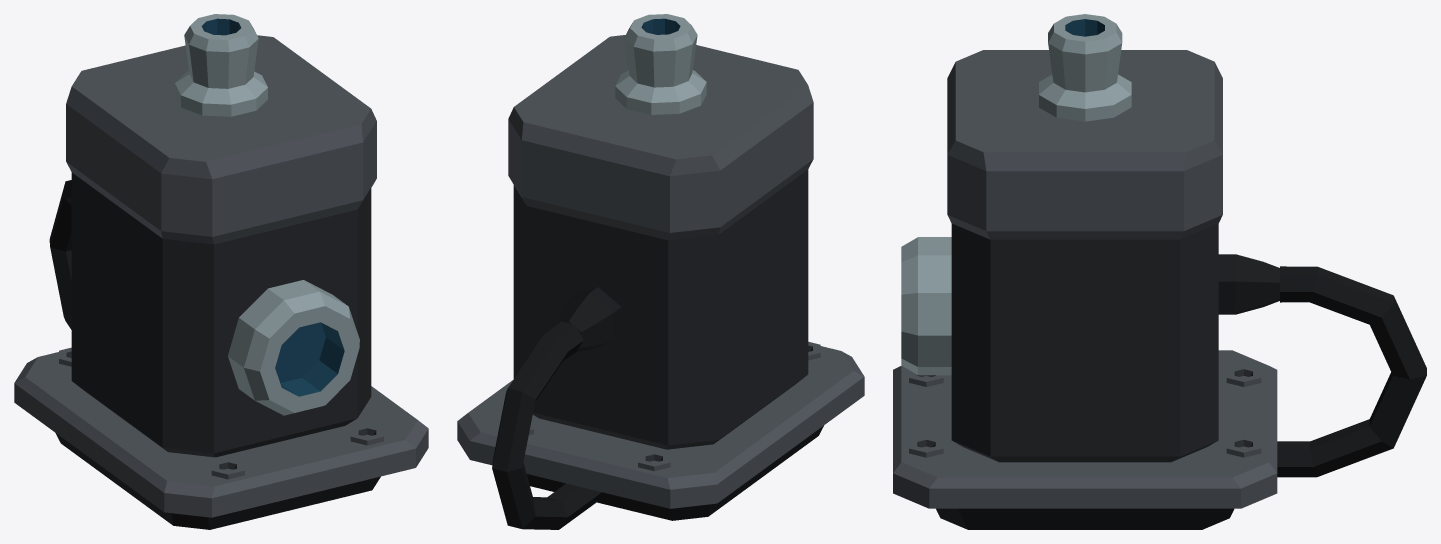
Rendered from sump-return-pump-a5bf42.glb.
3 renders of one model, left to right at view 1: azimuth 30°, elevation 25°; view 2: azimuth 150°, elevation 25°; view 3: azimuth 270°, elevation 25°, orthographic. The views are drawn at different scales.
Parts seen in each view (by area): view 1: pump; view 2: pump; view 3: pump.
Part boxes in pixels (x1,y1,x2,y2): pump: (14,14,428,529); pump: (457,14,864,529); pump: (893,14,1426,529).
Size of the model in its own units: 0.114 by 0.178 by 0.1917.
